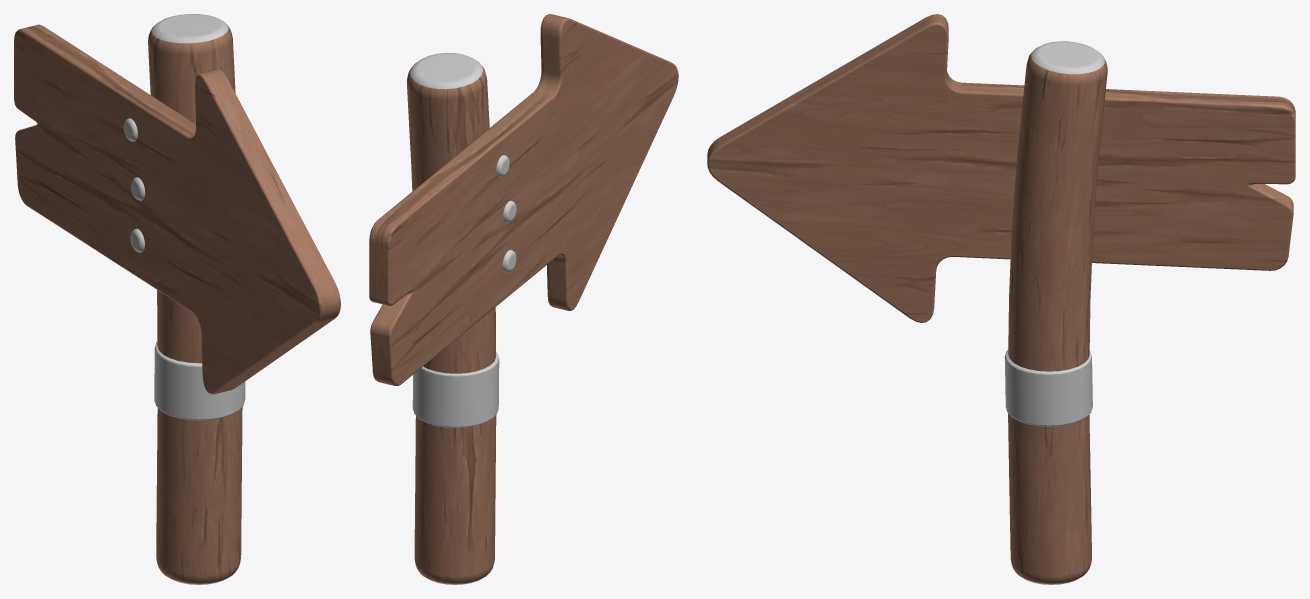
File: SM_Guidepost_01.fbx
The picture shows the model from 3 angles, left to right: view 1: azimuth 30°, elevation 25°; view 2: azimuth 150°, elevation 25°; view 3: azimuth 270°, elevation 25°; orthographic projection. The views are drawn at different scales.
Parts seen in each view (by area): view 1: SM_Guidepost_01; view 2: SM_Guidepost_01; view 3: SM_Guidepost_01.
Boxes of the visible parts, box(x1,y1,x2,y2) form: SM_Guidepost_01: box(14, 14, 340, 584); SM_Guidepost_01: box(369, 14, 678, 584); SM_Guidepost_01: box(707, 14, 1295, 584).
Bounding box in the file's own units: 17.52 × 91.3 × 91.02.
Materials: 4 (2 with a texture image).
